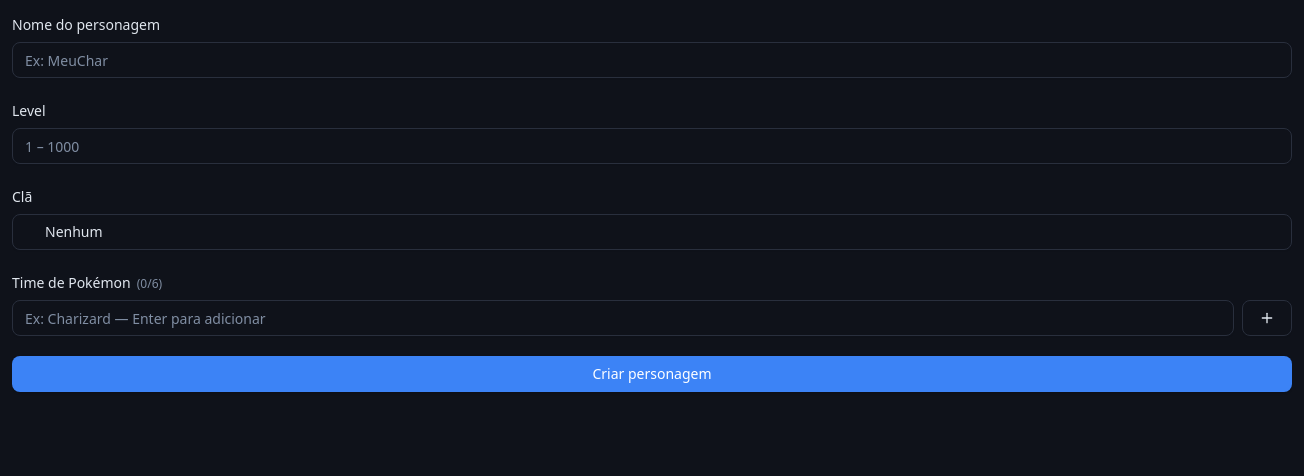
Test: CharacterForm (US02 — AC: Formulário com validação Zod) › Validação client-side › deve mostrar erro quando nome tem menos de 3 caracteres
In the field labelled "Nome do personagem": (652, 60) [12,42,1292,78], type "Ab"
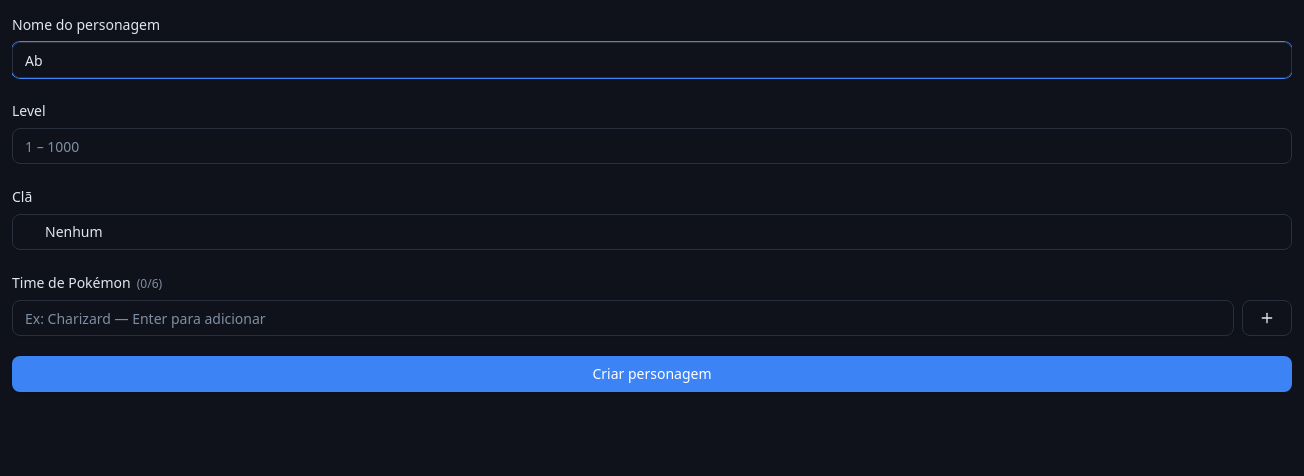
Click the button "Criar personagem": (652, 374) [12,356,1292,392]
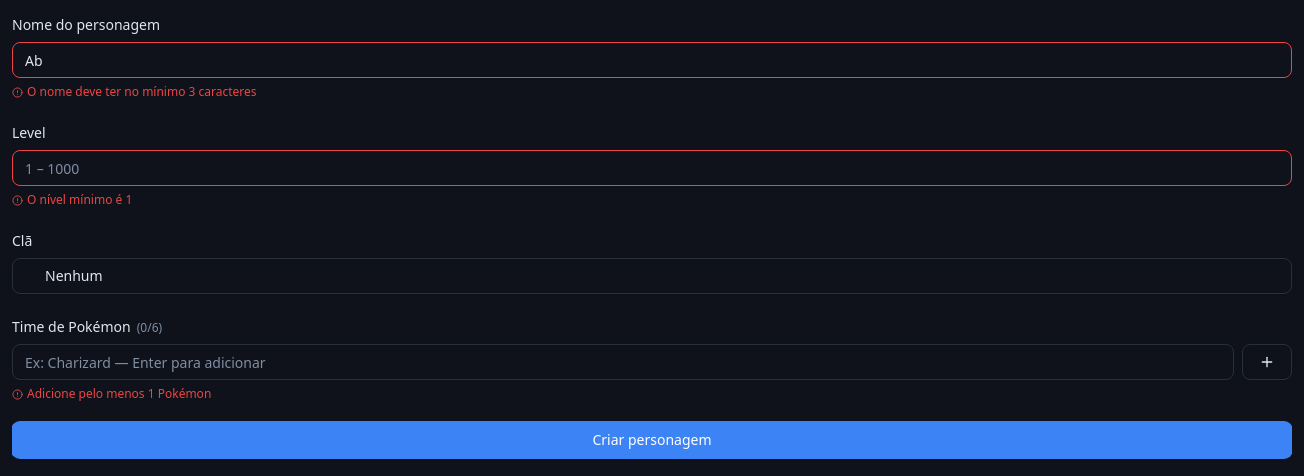
Expected: the text "O nome deve ter no mínimo 3 caracteres" is shown, [12,83,257,100]
